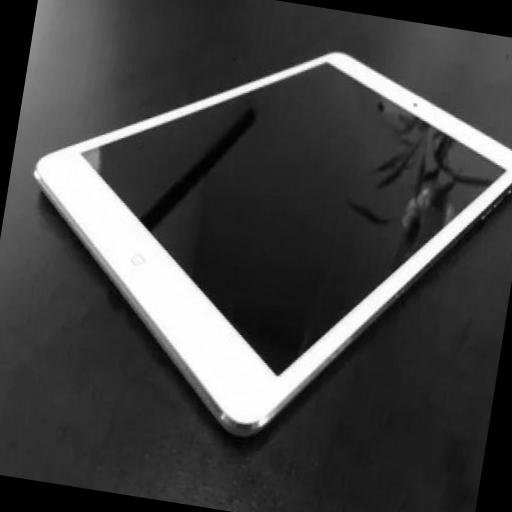phone: (34, 46, 512, 445)
